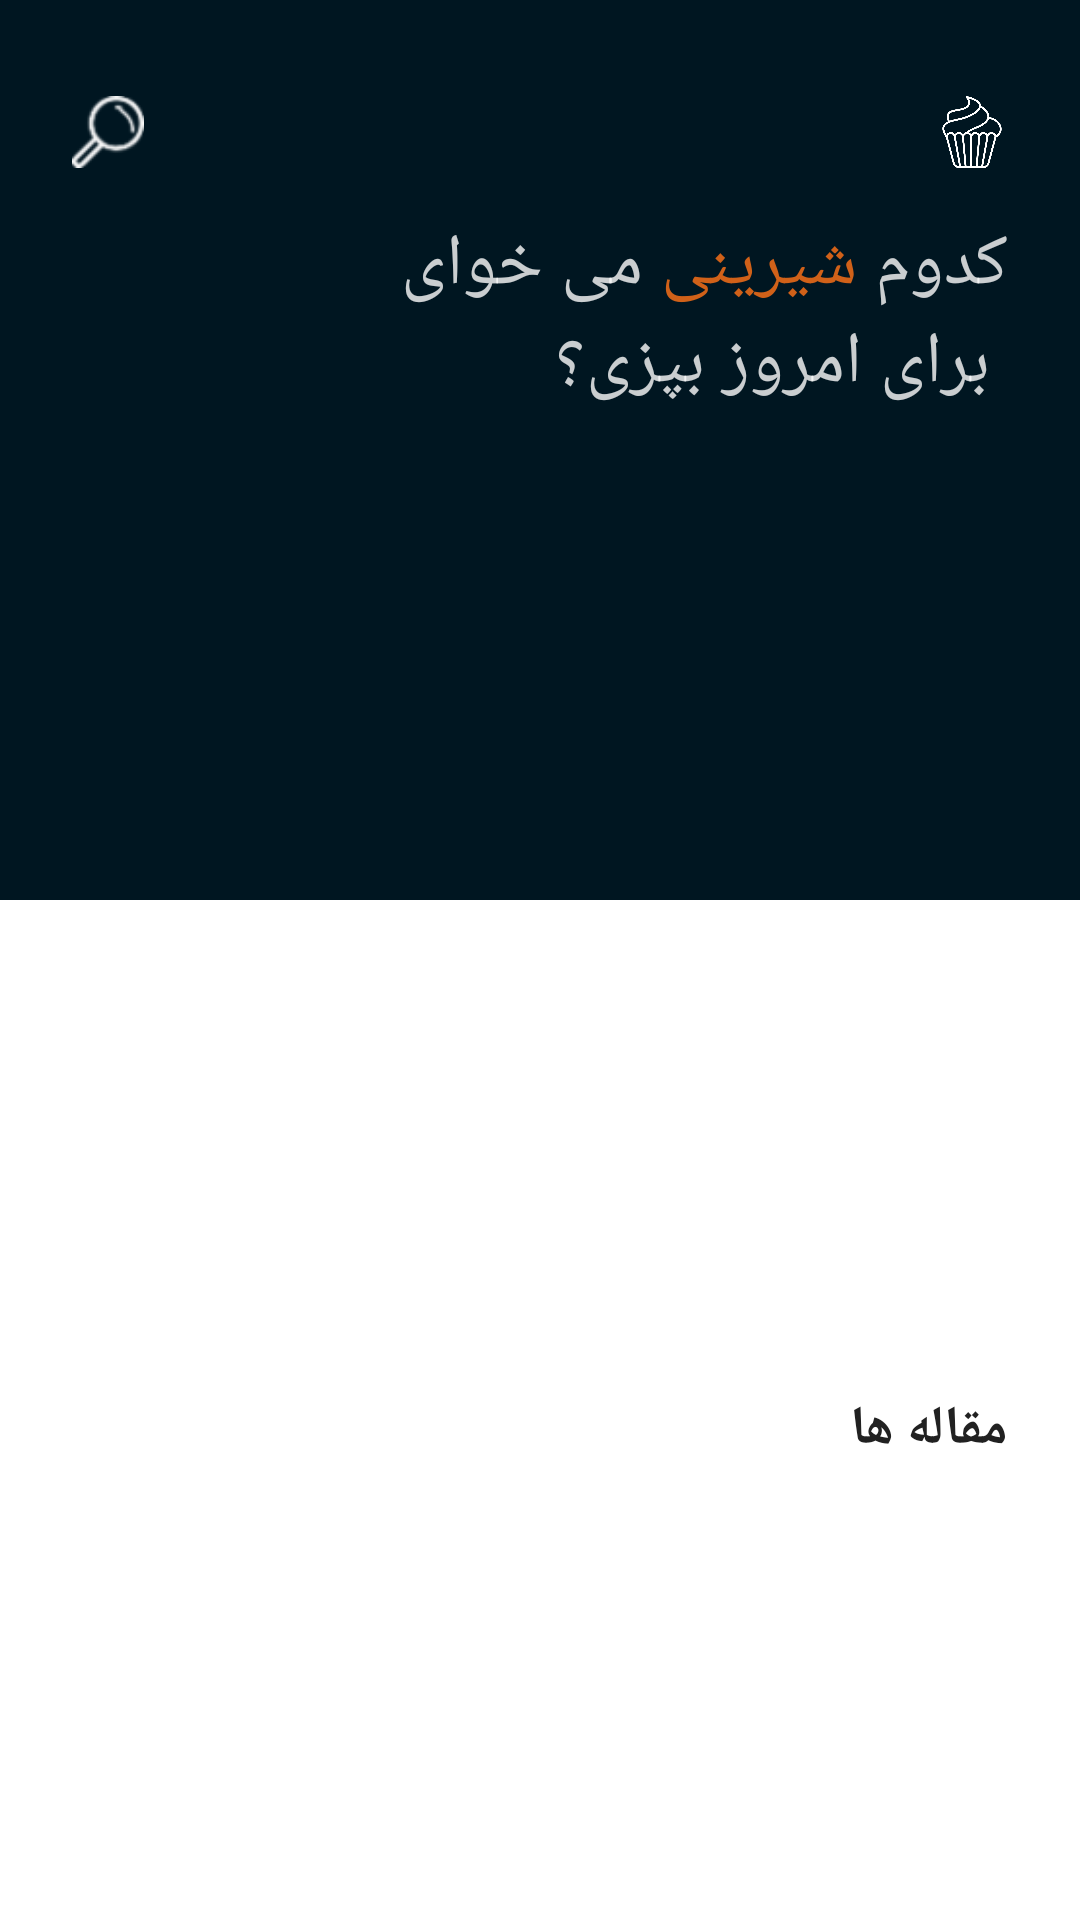

Screen size 1080w x 1920h. Icon name, then its center in pixels as (x,y):
search: (108,132)
whitecupcake: (972,132)
